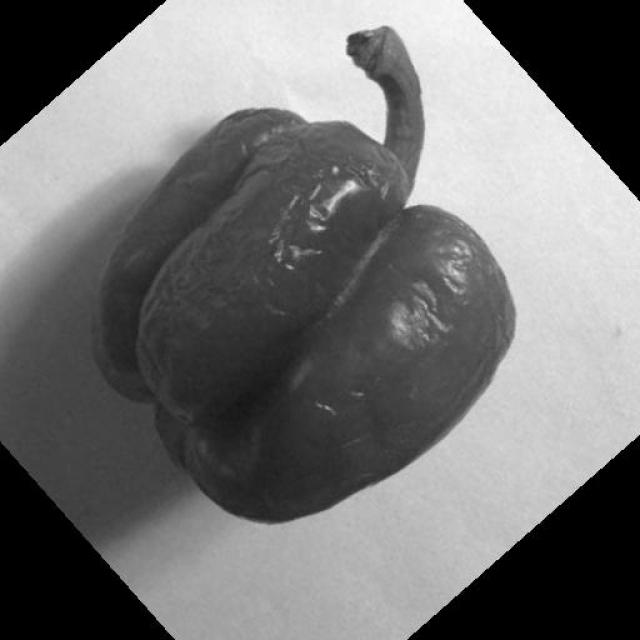Stale_Capsicum: (100, 26, 512, 512)
